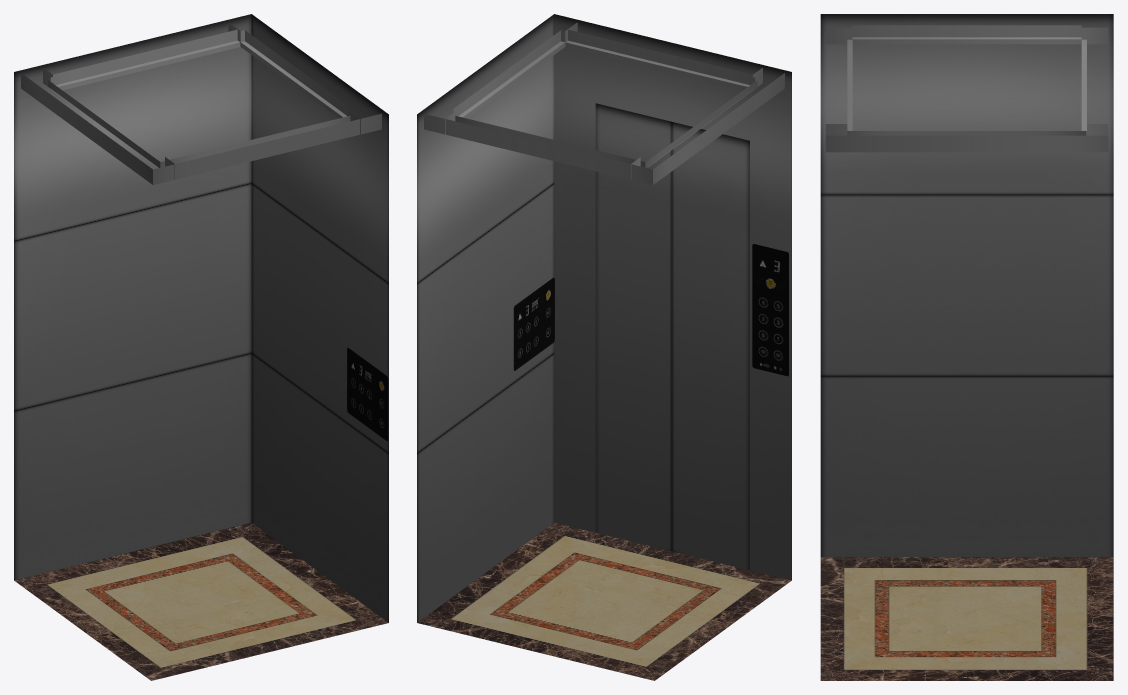
The picture shows the model from 3 angles, left to right: view 1: azimuth 30°, elevation 25°; view 2: azimuth 150°, elevation 25°; view 3: azimuth 270°, elevation 25°; orthographic projection. The views are drawn at different scales.
Visible parts, largest first — view 1: JX06_BeiMian1, JX06_YouMian, JX06_DiMian, DingMian; view 2: ZhenMian, JX06_YouMian, initialShadingGroup_ZhenMian, JX06_DiMian, DingMian; view 3: JX06_ZuoMian1, JX06_DiMian, DingMian.
Part boxes in pixels (left/top/right/bottom): JX06_BeiMian1: left=14, top=14, right=251, bottom=580; JX06_YouMian: left=251, top=14, right=388, bottom=622; JX06_DiMian: left=14, top=522, right=388, bottom=680; DingMian: left=21, top=22, right=381, bottom=184; ZhenMian: left=595, top=103, right=788, bottom=570; JX06_YouMian: left=417, top=14, right=554, bottom=622; initialShadingGroup_ZhenMian: left=554, top=14, right=791, bottom=580; JX06_DiMian: left=417, top=522, right=791, bottom=680; DingMian: left=424, top=22, right=784, bottom=184; JX06_ZuoMian1: left=820, top=14, right=1113, bottom=557; JX06_DiMian: left=820, top=557, right=1113, bottom=680; DingMian: left=825, top=25, right=1108, bottom=152.
Bounding box in the file's own units: 0.11 × 0.225 × 0.11.
8 materials, 8 textured.
